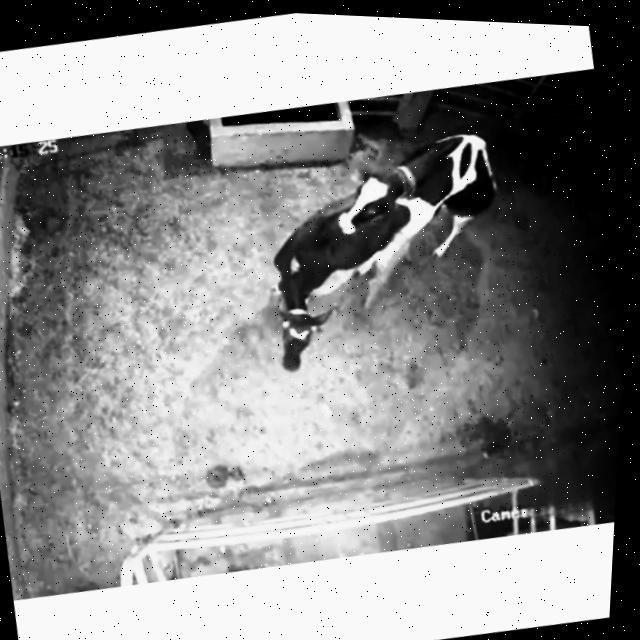ride: (315, 115, 530, 299)
